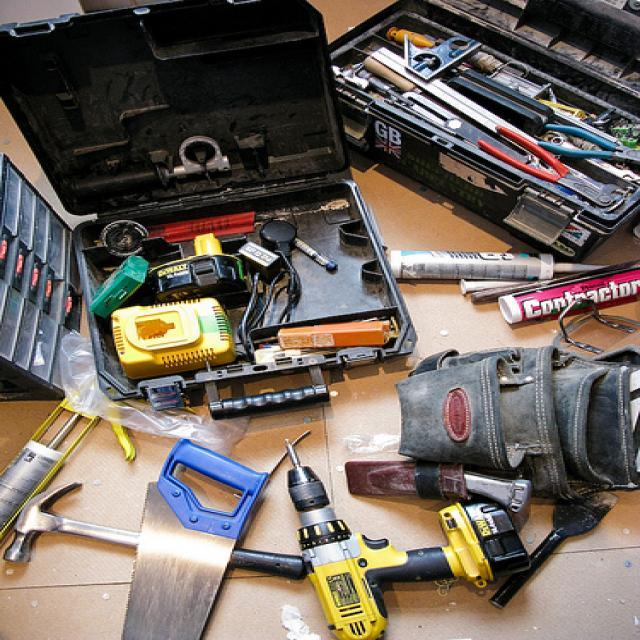drill: (266, 432, 530, 638)
hammer: (0, 476, 313, 601)
pliers: (538, 114, 640, 178)
